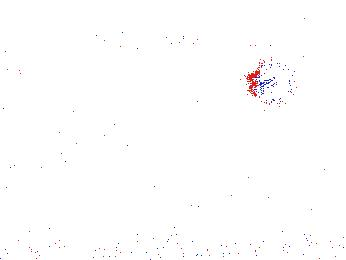flame jellyfish: (279, 172, 346, 222), (219, 159, 273, 207), (248, 60, 299, 105)
